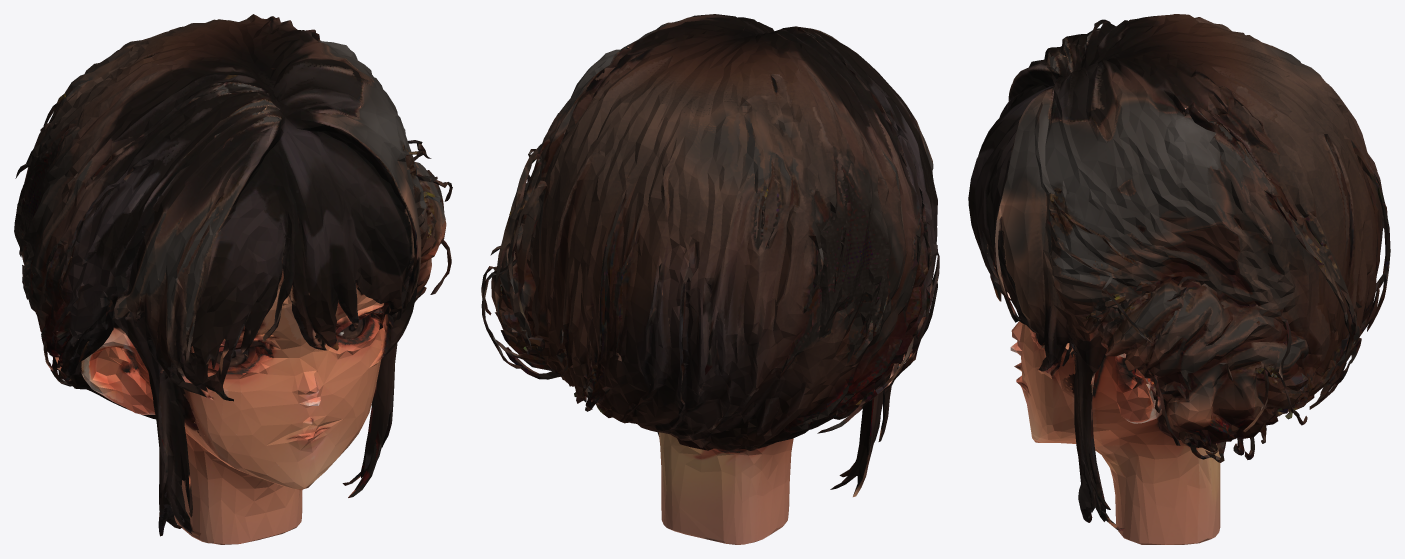
The model's file is side_hostess_repaired_atlas.glb.
3 renders of one model, left to right at view 1: azimuth 30°, elevation 25°; view 2: azimuth 150°, elevation 25°; view 3: azimuth 270°, elevation 25°, orthographic.
Visible parts, largest first — view 1: temp_mesh.ply; view 2: temp_mesh.ply; view 3: temp_mesh.ply.
Part boxes in pixels (bbox=[...]): temp_mesh.ply: bbox=[14, 14, 452, 544]; temp_mesh.ply: bbox=[481, 14, 939, 544]; temp_mesh.ply: bbox=[968, 14, 1390, 544].
Size of the model in its own units: 1.75 by 1.97 by 1.58.
1 material, 1 textured.
